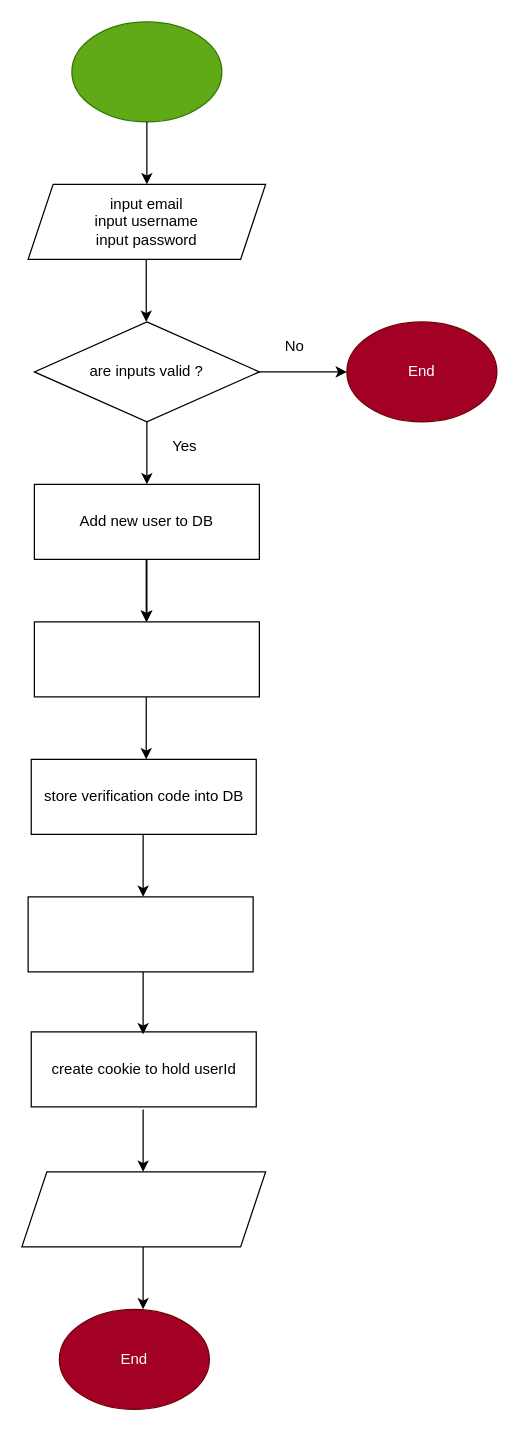
This 519x1431 diagram has some shape labels left out. Here are the shapes that lost their labels. From the top down, the centre of each, then its label:
(x=146, y=71): Start
(x=146, y=659): generate verification code
(x=140, y=934): Email user to get their code
(x=143, y=1209): ask user to check their email
